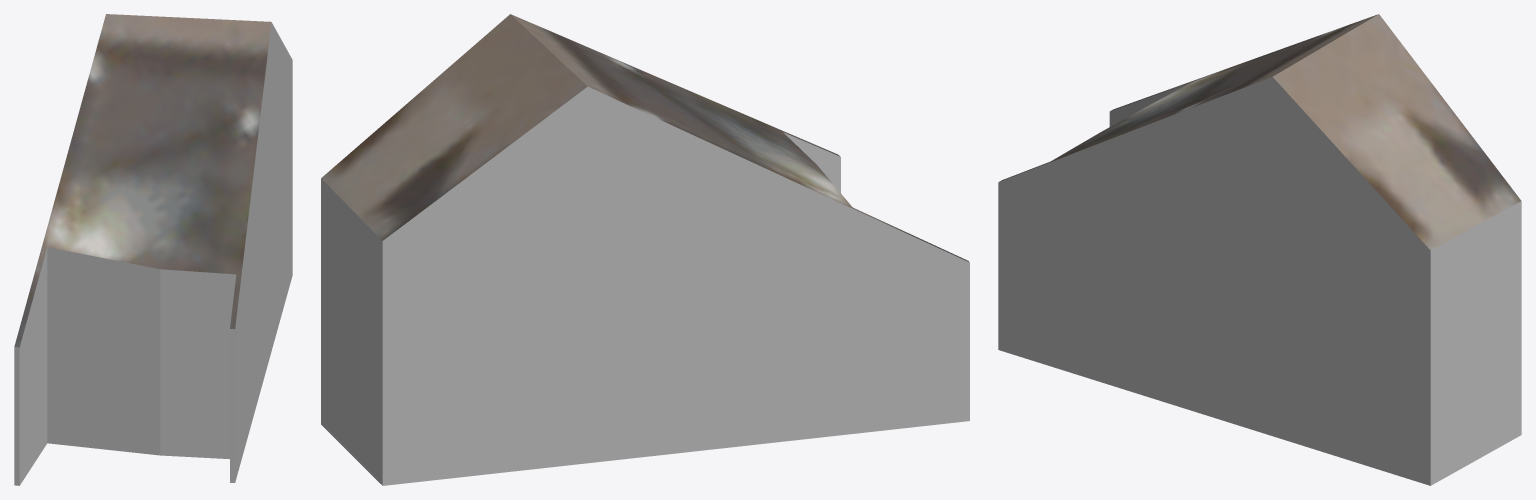
The model's file is DEBW_0010007TvlK.gltf.
3 renders of one model, left to right at view 1: azimuth 30°, elevation 25°; view 2: azimuth 150°, elevation 25°; view 3: azimuth 270°, elevation 25°, orthographic. The views are drawn at different scales.
Parts seen in each view (by area): view 1: Z_UP; view 2: Z_UP; view 3: Z_UP.
Boxes of the visible parts, <box> form: Z_UP: <box>14,14,292,485</box>; Z_UP: <box>321,14,969,485</box>; Z_UP: <box>998,14,1521,485</box>.
Size of the model in its own units: 15.36 by 11.45 by 15.07.
2 materials, 1 textured.
